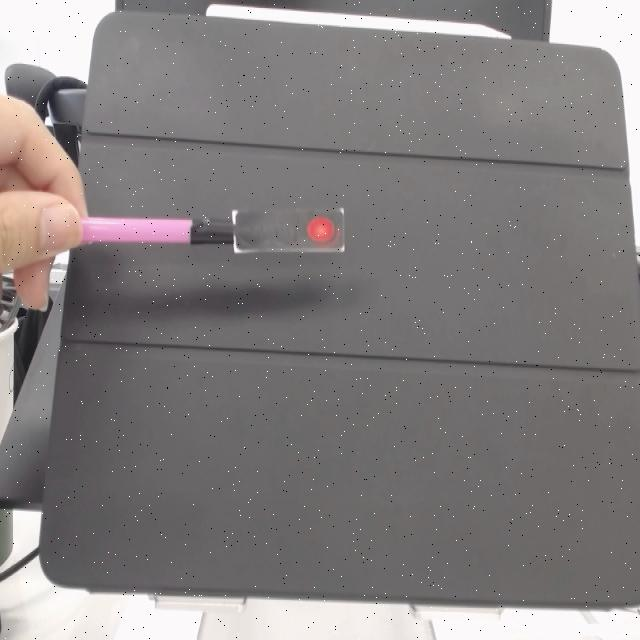traffic light: (228, 203, 348, 257)
